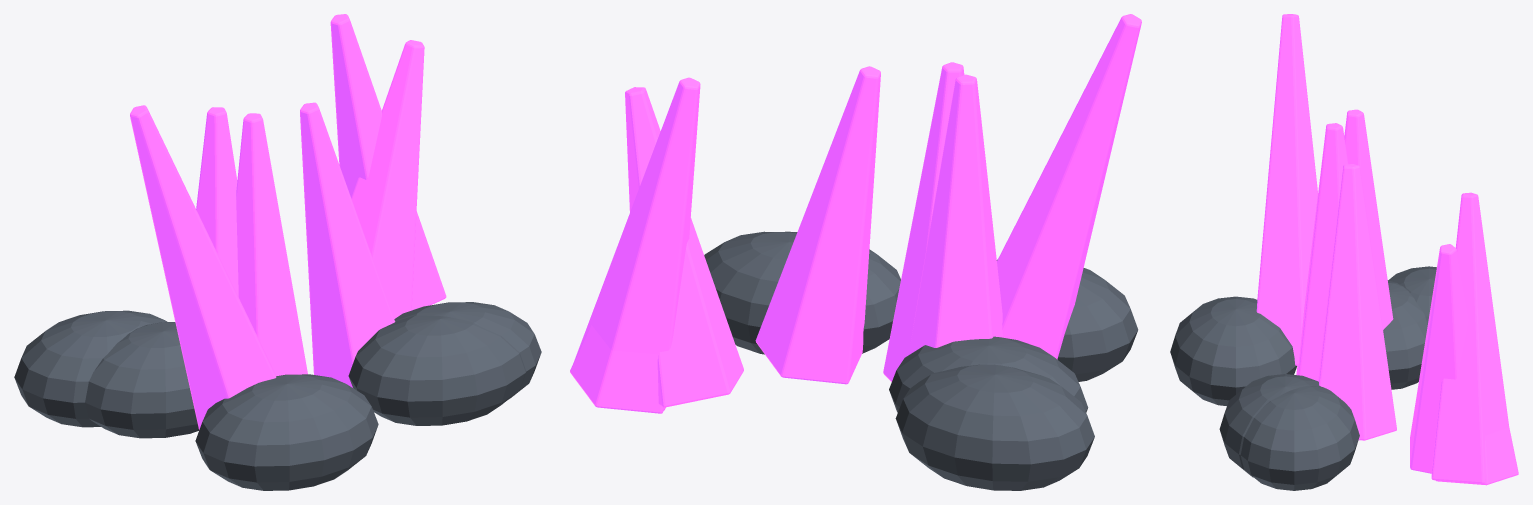
The model's file is crystals.glb.
The picture shows the model from 3 angles, left to right: view 1: azimuth 30°, elevation 25°; view 2: azimuth 150°, elevation 25°; view 3: azimuth 270°, elevation 25°; orthographic projection. The views are drawn at different scales.
Visible parts, largest first — view 1: crystals; view 2: crystals; view 3: crystals.
Part boxes in pixels (x1=…): crystals: x1=14, y1=14, x2=541, y2=490; crystals: x1=570, y1=14, x2=1141, y2=490; crystals: x1=1170, y1=14, x2=1518, y2=490.
Size of the model in its own units: 2.38 by 1.95 by 1.86.
